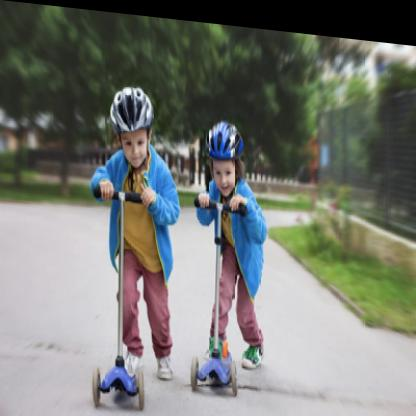With Helmet: (104, 75, 157, 171), (203, 111, 245, 194)
